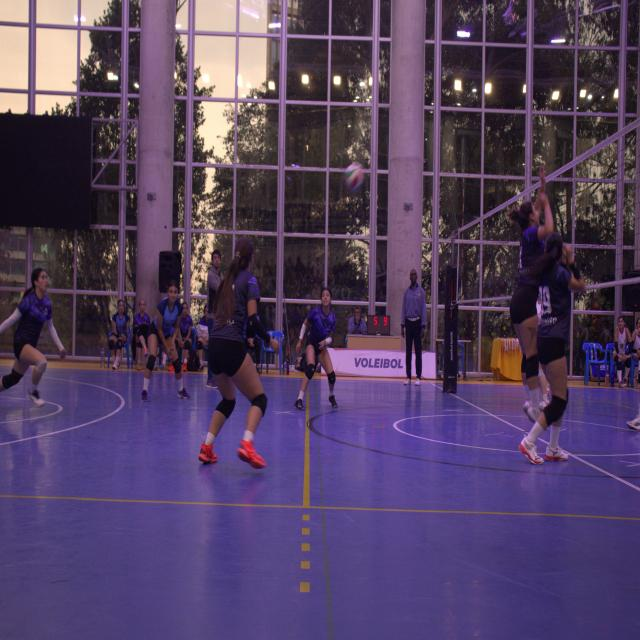volleyball: (344, 161, 364, 191)
